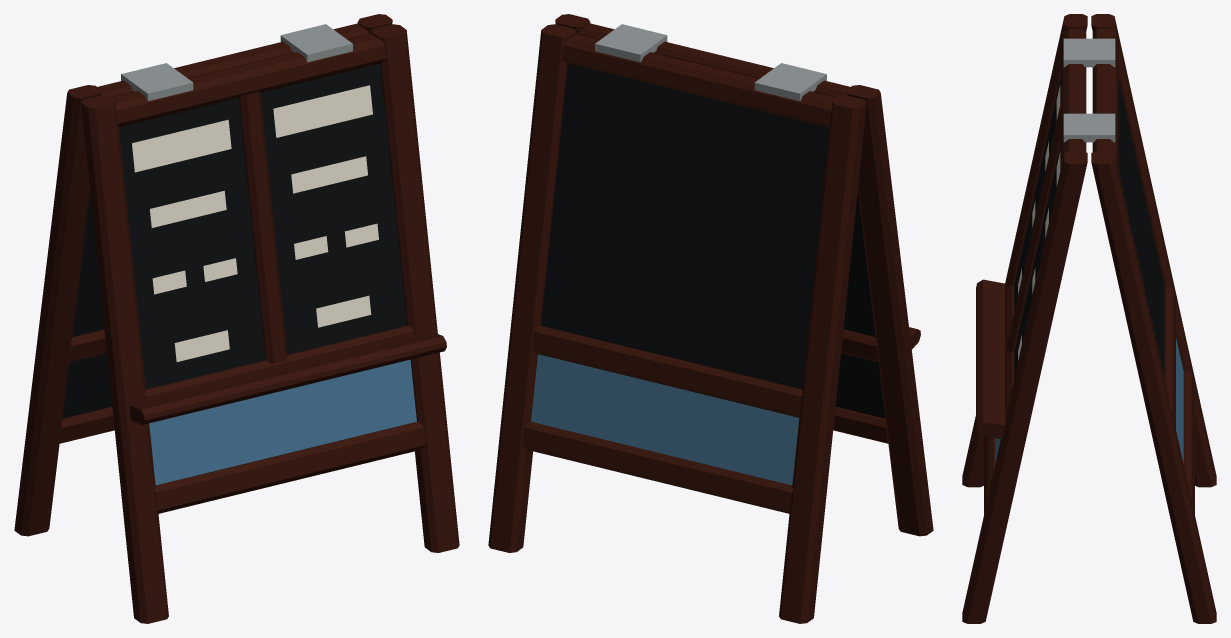
The model's file is sandwich-board-sign-cb5e7c.fbx.
3 renders of one model, left to right at view 1: azimuth 30°, elevation 25°; view 2: azimuth 150°, elevation 25°; view 3: azimuth 270°, elevation 25°, orthographic. The views are drawn at different scales.
Visible parts, largest first — view 1: board-front-shell, board-back-shell; view 2: board-back-shell, board-front-shell; view 3: board-front-shell, board-back-shell.
Boxes of the visible parts, x1=… form: board-front-shell: x1=81, y1=24, x2=459, y2=623; board-back-shell: x1=14, y1=14, x2=392, y2=536; board-back-shell: x1=488, y1=24, x2=866, y2=623; board-front-shell: x1=555, y1=14, x2=933, y2=536; board-front-shell: x1=962, y1=14, x2=1115, y2=623; board-back-shell: x1=1091, y1=14, x2=1216, y2=623.
Size of the model in its own units: 0.7 by 1 by 0.5009.
